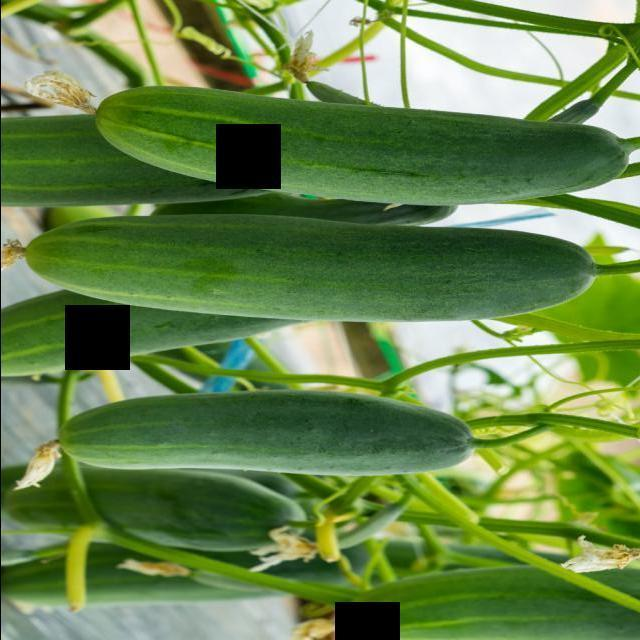cucumber: (89, 84, 630, 208), (21, 210, 596, 325), (51, 388, 487, 478), (1, 287, 299, 381), (1, 110, 271, 207), (1, 472, 314, 551), (1, 541, 369, 605), (336, 562, 639, 638), (140, 195, 460, 222)
